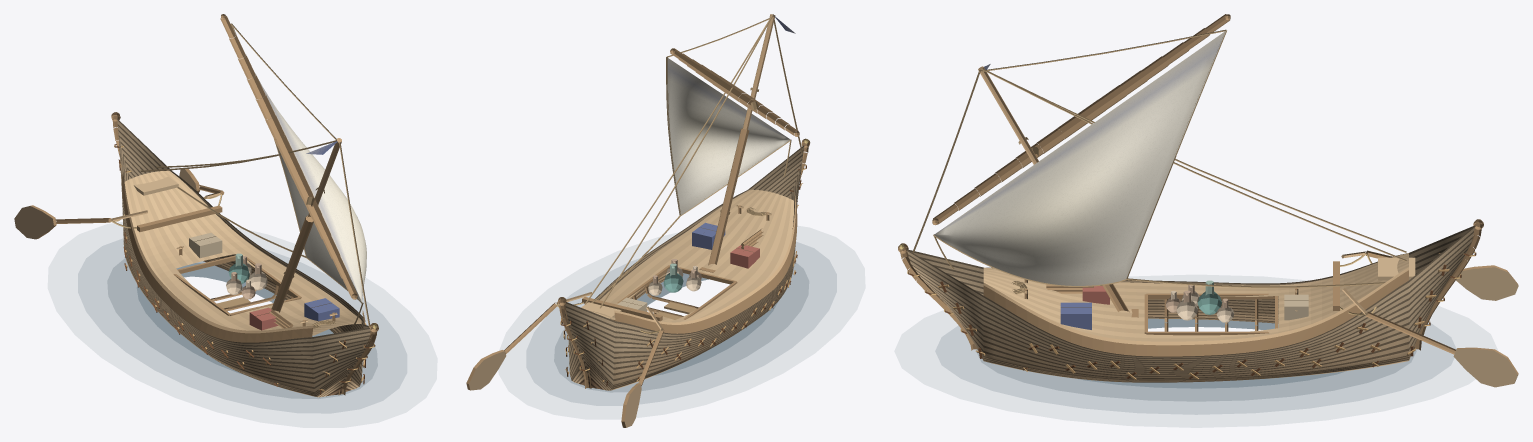
The model's file is dashi_sewn_merchant.glb.
The picture shows the model from 3 angles, left to right: view 1: azimuth 30°, elevation 25°; view 2: azimuth 150°, elevation 25°; view 3: azimuth 270°, elevation 25°; orthographic projection. The views are drawn at different scales.
Visible parts, largest first — view 1: Fittings, Shadow, Hull, Deck, Sails, Stitches; view 2: Fittings, Shadow, Hull, Sails, Deck, Stitches; view 3: Sails, Fittings, Hull, Shadow, Deck, Stitches.
Boxes of the visible parts, <box> form: Fittings: <box>14,14,378,395</box>; Shadow: <box>78,238,407,413</box>; Hull: <box>117,119,372,397</box>; Deck: <box>124,170,361,335</box>; Sails: <box>232,26,366,302</box>; Stitches: <box>114,144,375,394</box>; Fittings: <box>466,14,810,427</box>; Shadow: <box>526,241,836,405</box>; Hull: <box>563,145,804,390</box>; Sails: <box>667,15,795,215</box>; Deck: <box>588,189,793,322</box>; Stitches: <box>560,164,806,386</box>; Sails: <box>934,31,1225,285</box>; Fittings: <box>898,14,1518,387</box>; Hull: <box>906,225,1474,382</box>; Shadow: <box>935,318,1456,414</box>; Deck: <box>983,253,1408,341</box>; Stitches: <box>907,251,1476,379</box>.
Size of the model in its own units: 5.33 by 5.42 by 9.17.
